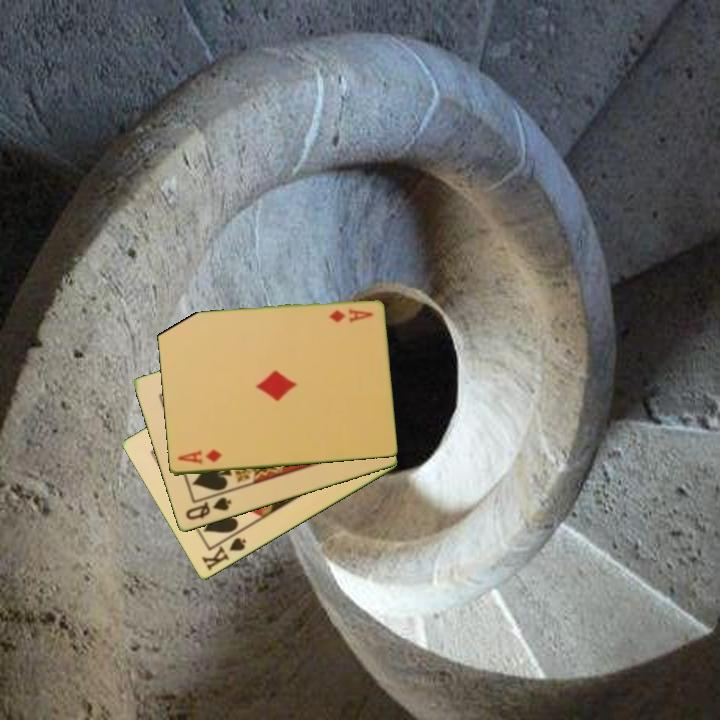Ad: (174, 446, 225, 468), (325, 305, 376, 325)
Ks: (198, 529, 249, 574)
Qs: (182, 494, 234, 523)
